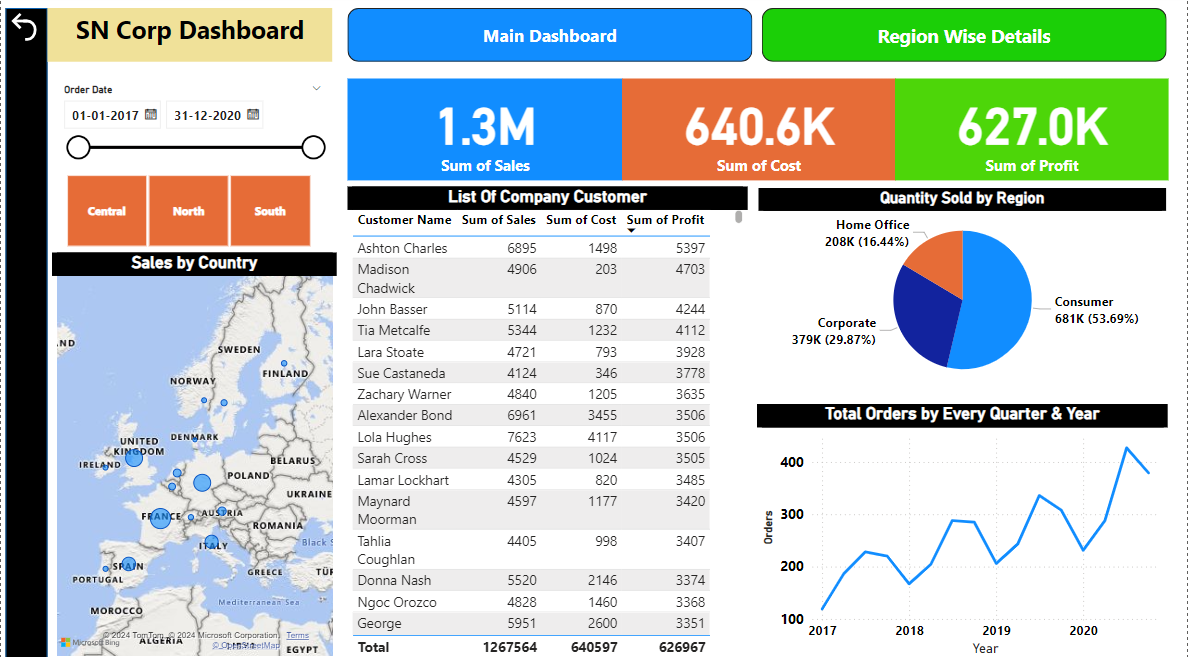

Layout of this report page (visuals, bound fields, positions):
{"tool":"powerbi","page":{"name":"Region Wise Details","canvas":[1280,720],"ordinal":1},"visuals":[{"type":"shape","box":[4.9,15.6,45.3,704.4],"z":0},{"type":"pageNavigator","box":[374,16.2,885.7,58.3],"z":1000},{"type":"textbox","box":[50.2,16.2,307.7,58.3],"z":2000},{"type":"lineChart","title":"Total Orders by Every Quarter & Year","fields":{"Y":["CountNonNull(List of Orders.Order ID)"],"Category":["List of Orders.Order Date.Variation.Date Hierarchy.Year","List of Orders.Order Date.Variation.Date Hierarchy.Quarter"]},"box":[816.7,443.3,443.3,276.7],"z":3000},{"type":"slicer","fields":{"Values":["List of Orders.Region"]},"box":[50.2,189.4,302.8,90.7],"z":4000},{"type":"actionButton","box":[4.9,16.2,45.3,40.5],"z":5000},{"type":"tableEx","title":"List Of Company Customer","fields":{"Values":["List of Orders.Customer Name","Sum(List of Orders.Sales)","Sum(List of Orders.Cost)","Sum(List of Orders.Profit)"]},"box":[373.3,208.3,431.7,511.7],"z":7000},{"type":"card","fields":{"Values":["Sum(List of Orders.Sales)"]},"box":[373.3,91.7,296.7,110],"z":8000},{"type":"card","fields":{"Values":["Sum(List of Orders.Cost)"]},"box":[670,91.7,295,110],"z":9000},{"type":"card","fields":{"Values":["Sum(List of Orders.Profit)"]},"box":[965,91.7,295,110],"z":10000},{"type":"pieChart","title":"Quantity Sold by Region","fields":{"Y":["Sum(List of Orders.Sales)"],"Category":["List of Orders.Segment"]},"box":[818.3,210,440,221.7],"z":11000},{"type":"map","title":"Sales by Country","fields":{"Category":["List of Orders.Country"],"Size":["Sum(List of Orders.Sales)"]},"box":[55.1,280.1,307.7,440.4],"z":12000},{"type":"slicer","fields":{"Values":["List of Orders.Order Date"]},"box":[55,91.7,303.3,96.7],"z":13000}]}

Visuals, with their boxes on the page's 1280x720 design canvas (x1, y1, x2, y2). These are canvas units, not pixel positions in the 1188x657 screenshot, which may show the page scaled, cropped or inside an application window:
shape: (left=5, top=16, right=50, bottom=720)
pageNavigator: (left=374, top=16, right=1260, bottom=74)
textbox: (left=50, top=16, right=358, bottom=74)
"Total Orders by Every Quarter & Year" lineChart: (left=817, top=443, right=1260, bottom=720)
slicer - List of Orders.Region: (left=50, top=189, right=353, bottom=280)
actionButton: (left=5, top=16, right=50, bottom=57)
"List Of Company Customer" tableEx: (left=373, top=208, right=805, bottom=720)
card - Sum(List of Orders.Sales): (left=373, top=92, right=670, bottom=202)
card - Sum(List of Orders.Cost): (left=670, top=92, right=965, bottom=202)
card - Sum(List of Orders.Profit): (left=965, top=92, right=1260, bottom=202)
"Quantity Sold by Region" pieChart: (left=818, top=210, right=1258, bottom=432)
"Sales by Country" map: (left=55, top=280, right=363, bottom=720)
slicer - List of Orders.Order Date: (left=55, top=92, right=358, bottom=188)
